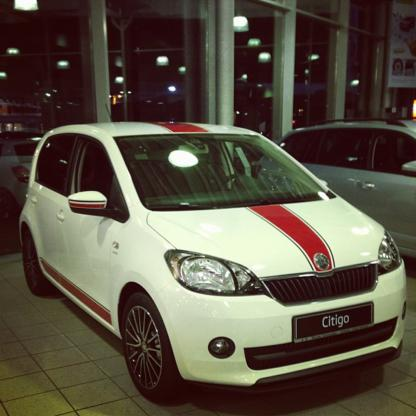Car: (19, 103, 406, 403), (256, 116, 416, 260), (0, 129, 47, 250)
